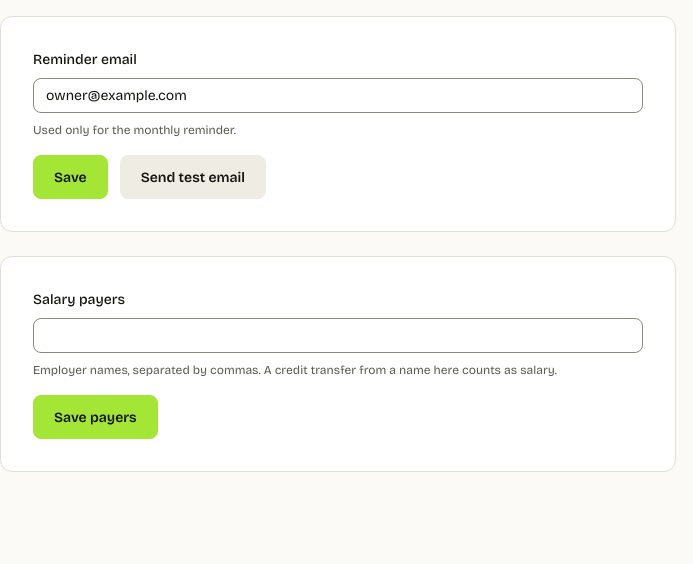
Test: SettingsForm › shows the server error when the test email fails
The image size is (693, 564).
What coordinates should you click on to do the following:
click the button "Send test email"
I would click on:
 (193, 177)
Its box is [120,155,266,199].
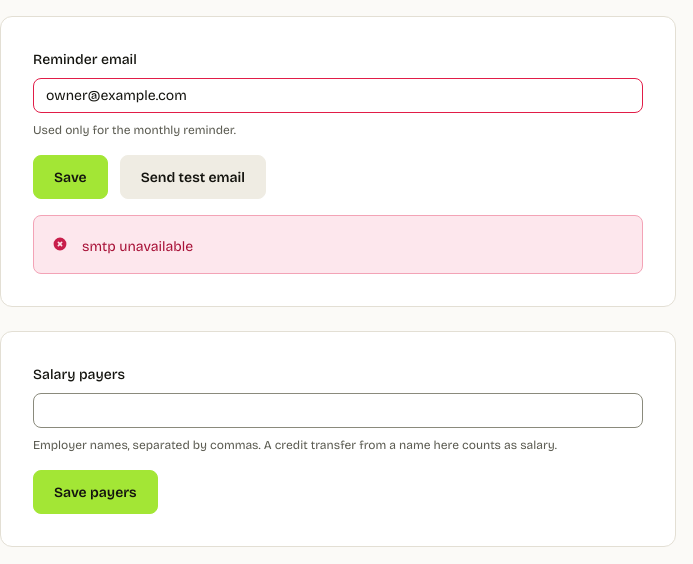
Expected: the text "smtp unavailable" is shown, [82,238,193,255]
